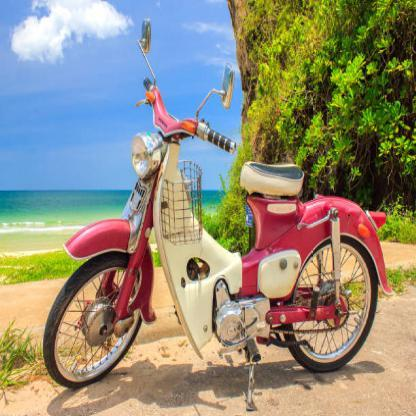Motorcycle: (34, 10, 402, 415)
